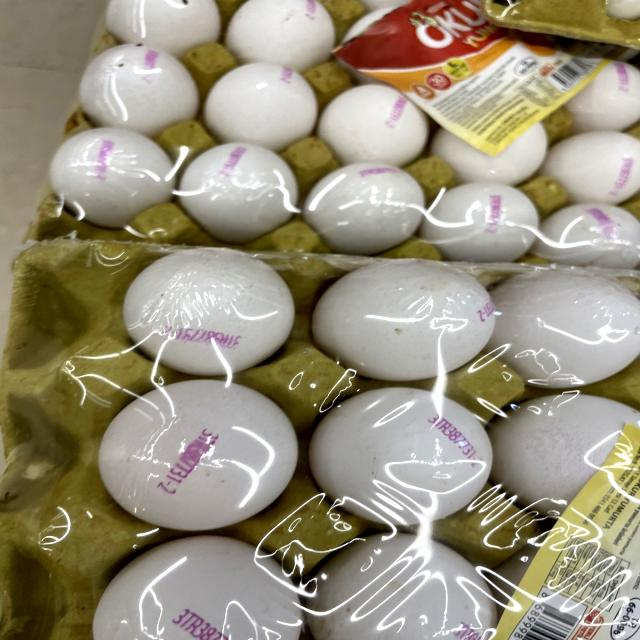egg: (82, 379, 302, 531), (111, 239, 305, 377), (310, 243, 494, 385), (37, 120, 172, 227), (169, 131, 303, 235), (300, 154, 427, 254), (73, 40, 200, 131)
